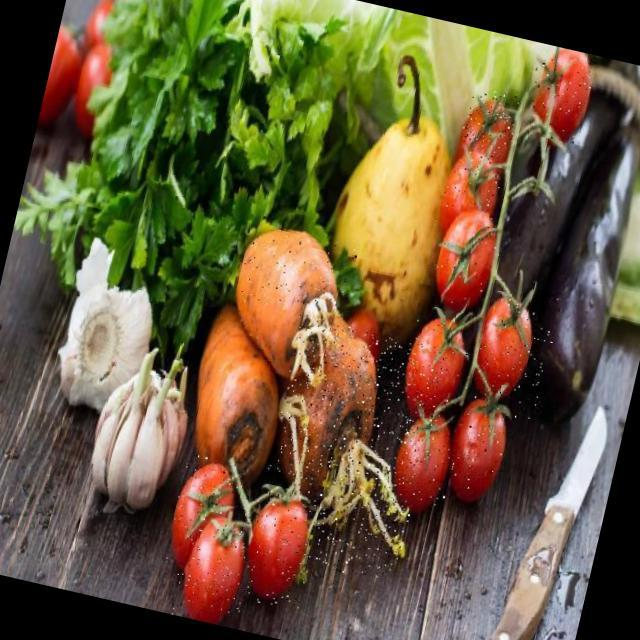Tomate: (233, 470, 327, 612), (466, 283, 562, 421), (171, 501, 261, 629), (161, 453, 246, 584), (441, 381, 522, 510), (391, 309, 476, 431), (426, 202, 507, 311), (432, 136, 510, 243), (385, 409, 463, 516), (521, 43, 598, 144), (455, 85, 521, 170)
Zanahoria: (249, 316, 448, 583), (167, 294, 302, 488), (219, 223, 358, 395)
